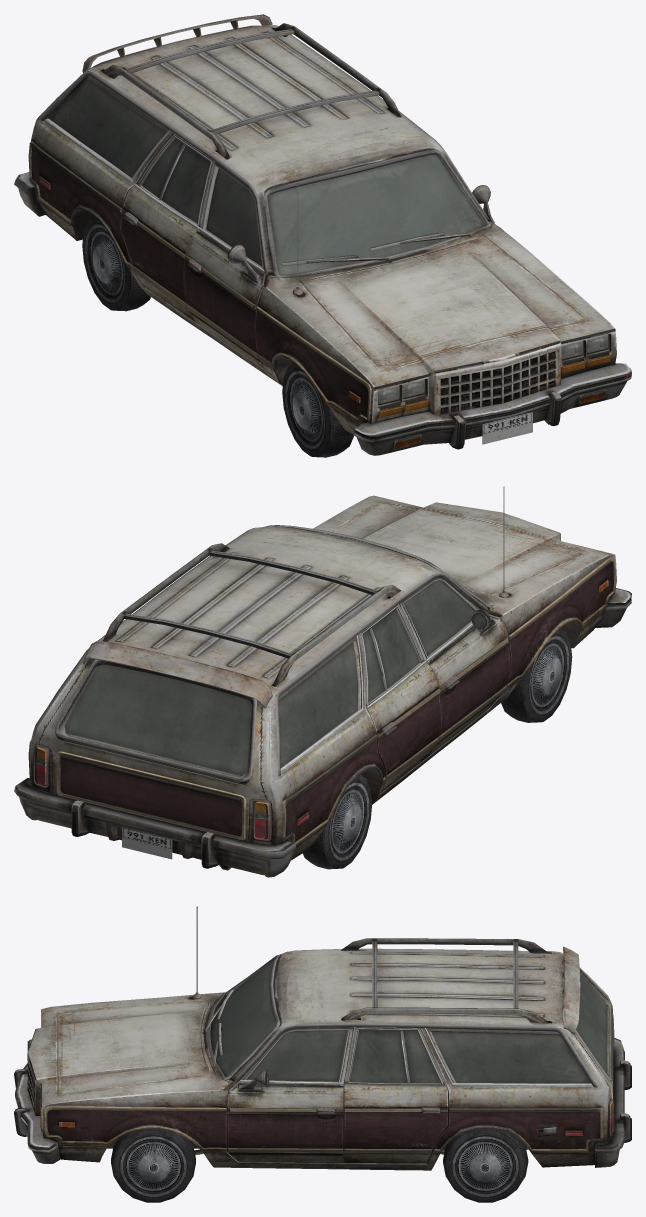
Rendered from stationwagon.obj.
3 views of the same model, one above another, from view 1: azimuth 30°, elevation 25°; view 2: azimuth 150°, elevation 25°; view 3: azimuth 270°, elevation 25° (orthographic). The views are drawn at different scales.
Parts seen in each view (by area): view 1: 2, 1, 4, 5, 0; view 2: 2, 1, 4, 5, 0; view 3: 2, 1, 4, 5.
Boxes of the visible parts, box(x1,y1,x2,y2) form: 2: box(14, 23, 631, 455); 1: box(31, 14, 606, 449); 4: box(50, 80, 484, 275); 5: box(82, 216, 353, 457); 0: box(482, 412, 532, 444); 2: box(14, 486, 631, 877); 1: box(30, 525, 616, 860); 4: box(64, 581, 474, 775); 5: box(303, 628, 572, 869); 0: box(122, 827, 172, 859); 2: box(14, 906, 631, 1167); 1: box(41, 946, 613, 1170); 4: box(211, 961, 607, 1083); 5: box(111, 1128, 528, 1202).
Bounding box in the file's own units: 2.18 × 1.91 × 5.16.
6 materials, 6 textured.
